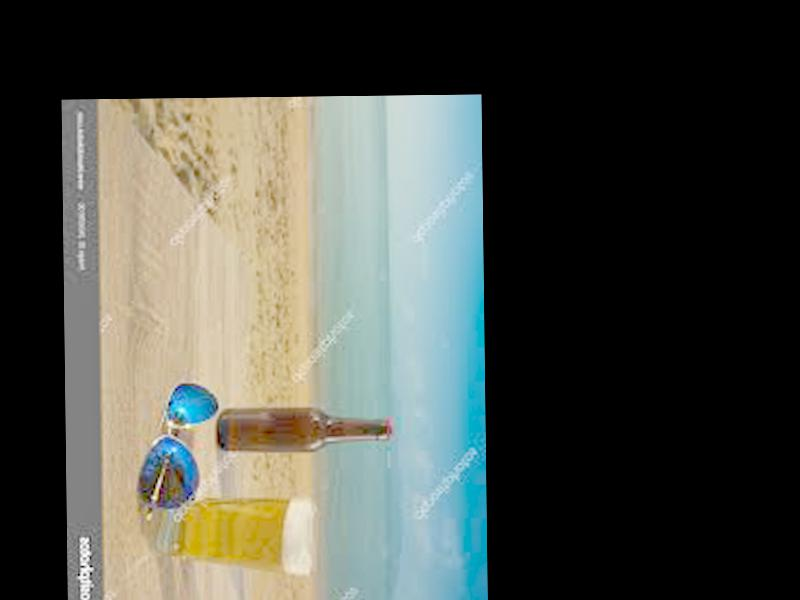Beer: (218, 406, 393, 452)
